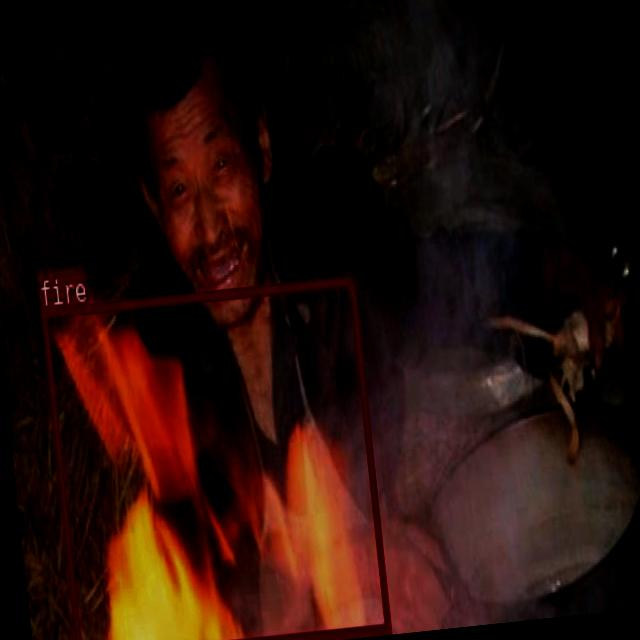fire: (38, 274, 389, 640)
